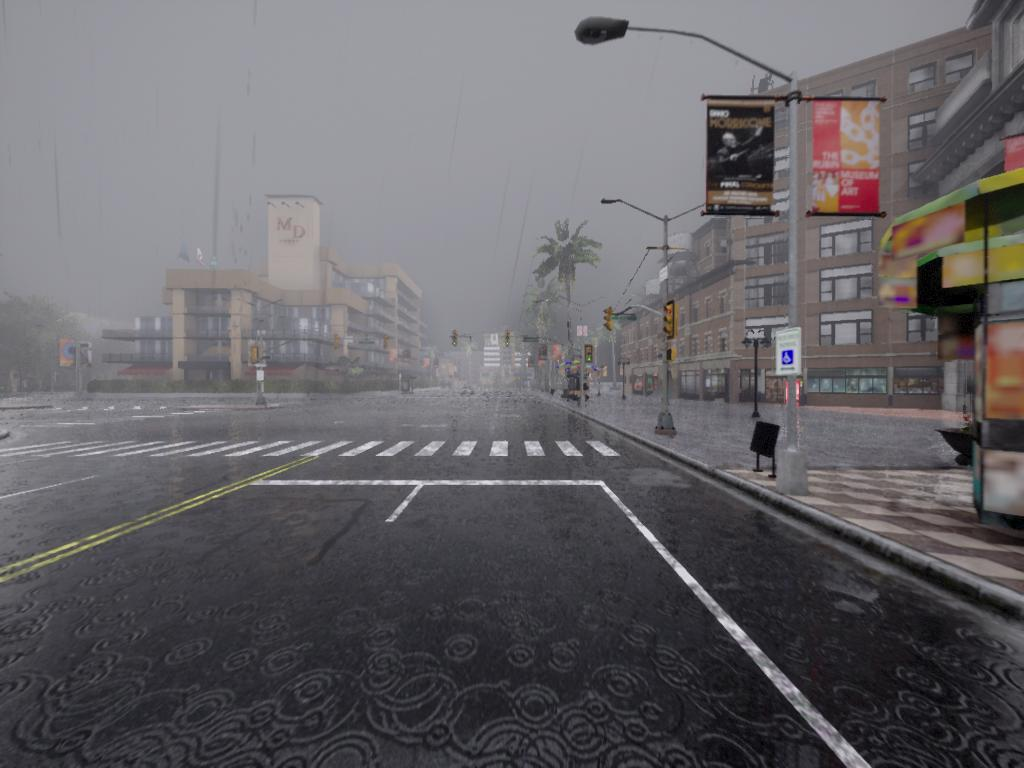traffic_light: (665, 304, 679, 339), (63, 344, 80, 368), (605, 310, 616, 331), (667, 348, 680, 363), (587, 347, 597, 366), (503, 331, 512, 349), (450, 331, 459, 348), (251, 347, 258, 365), (383, 336, 389, 353), (336, 333, 341, 351)
